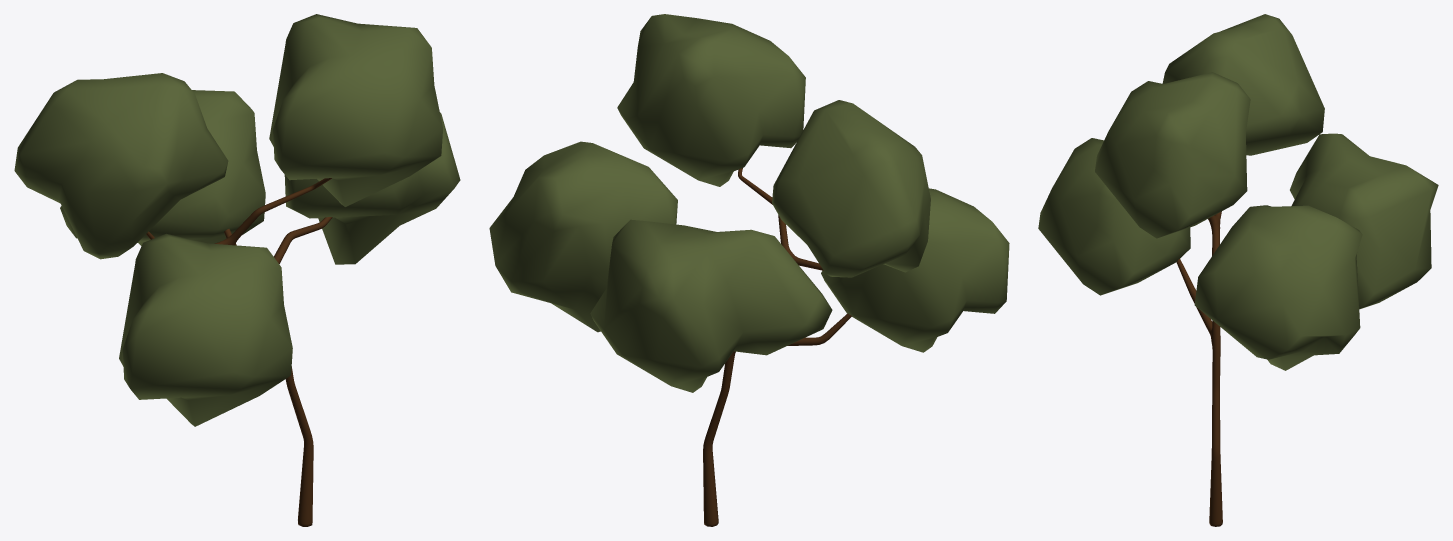
Rendered from tree_01.fbx.
3 renders of one model, left to right at view 1: azimuth 30°, elevation 25°; view 2: azimuth 150°, elevation 25°; view 3: azimuth 270°, elevation 25°, orthographic. The views are drawn at different scales.
Parts seen in each view (by area): view 1: Tree_01; view 2: Tree_01; view 3: Tree_01.
Part boxes in pixels (bbox=[...]): Tree_01: bbox=[14, 14, 460, 526]; Tree_01: bbox=[489, 14, 1009, 526]; Tree_01: bbox=[1038, 14, 1438, 526].
Bounding box in the file's own units: 707 × 781 × 625.
